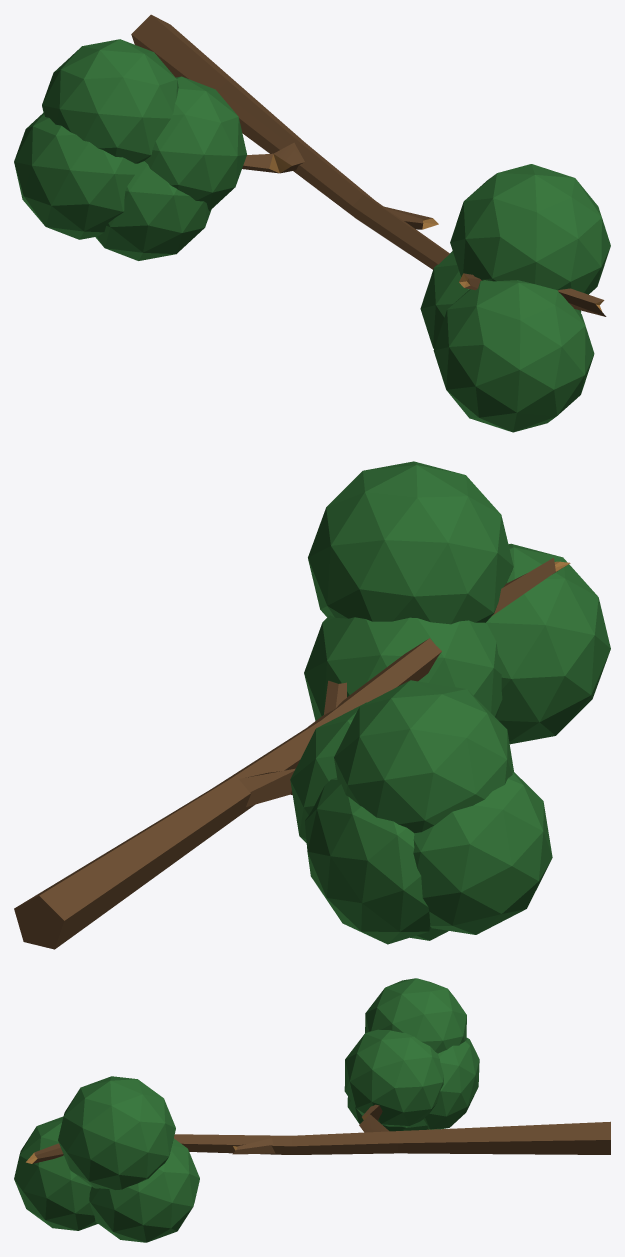
The model's file is tree1.glb.
3 renders of one model, top to bottom at view 1: azimuth 30°, elevation 25°; view 2: azimuth 150°, elevation 25°; view 3: azimuth 270°, elevation 25°, orthographic. The views are drawn at different scales.
Parts seen in each view (by area): view 1: tree-torn-b; view 2: tree-torn-b; view 3: tree-torn-b.
Boxes of the visible parts, x1,y1,x2,y2 form: tree-torn-b: [14, 14, 610, 432]; tree-torn-b: [14, 461, 610, 949]; tree-torn-b: [14, 978, 610, 1242].
Size of the model in its own units: 4.91 by 3.15 by 9.31.
Materials: 1 (1 with a texture image).
